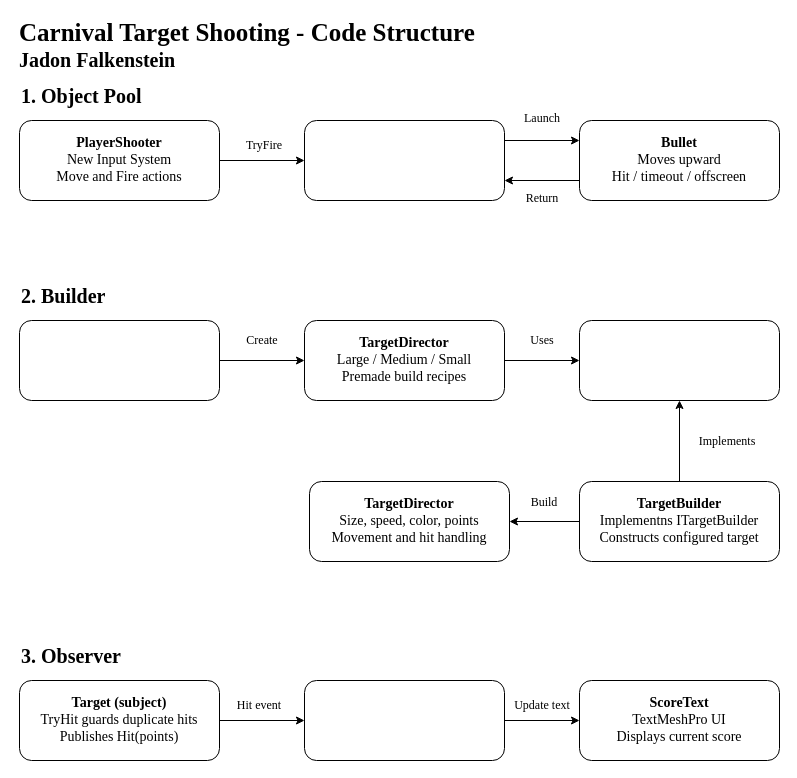
The diagram is 797 pixels wide and 778 high, and some of its shapes have lost their labels. The box of each missing label's shape, as (x1, y1, x2, y2) in pixels:
Bullet Pool Creates 20 bullets once Queue of available bullets: (304, 120, 504, 200)
ITargetBuilder Reset + Configuration steps Build returns Target: (578, 320, 780, 400)
ScoreManager (observer) Subscribe / unsubscribe Add points to score: (304, 680, 504, 760)
Target Spawner Three lanes Replace missing targets: (18, 320, 220, 400)
